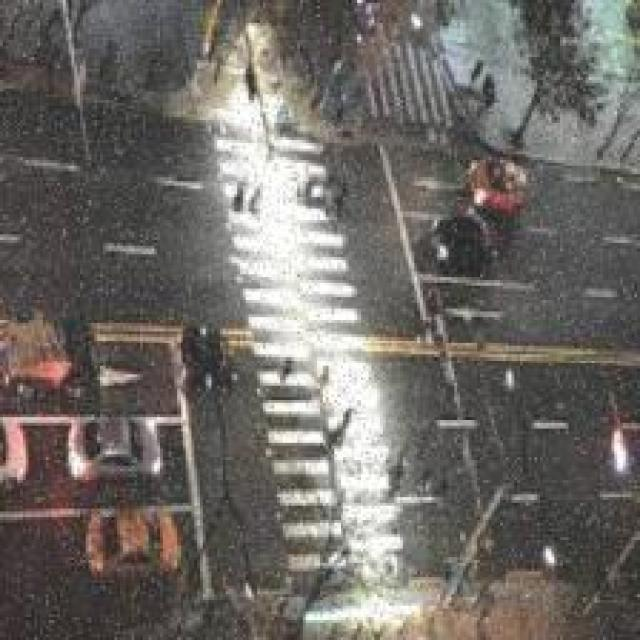walk-crossing: (209, 111, 414, 606), (344, 32, 467, 152)
